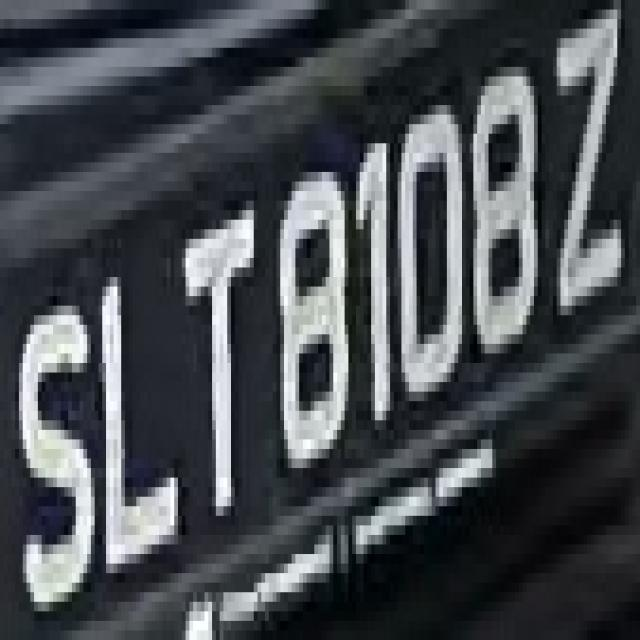0: (382, 86, 462, 430)
1: (356, 114, 401, 458)
8: (261, 172, 352, 497), (466, 67, 556, 382)
L: (87, 248, 174, 592)
S: (7, 277, 91, 592)
T: (163, 201, 257, 535)
Z: (542, 10, 632, 363)
